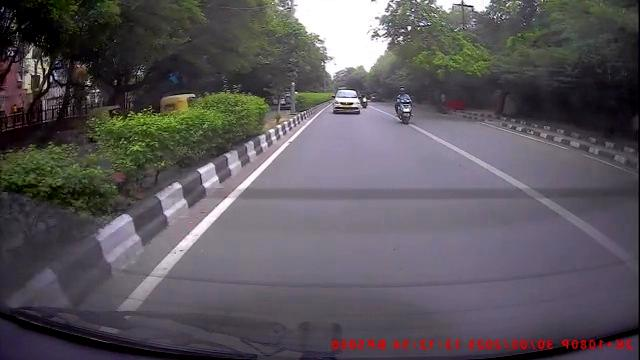motorcycle_with_helmet: (395, 88, 414, 126)
